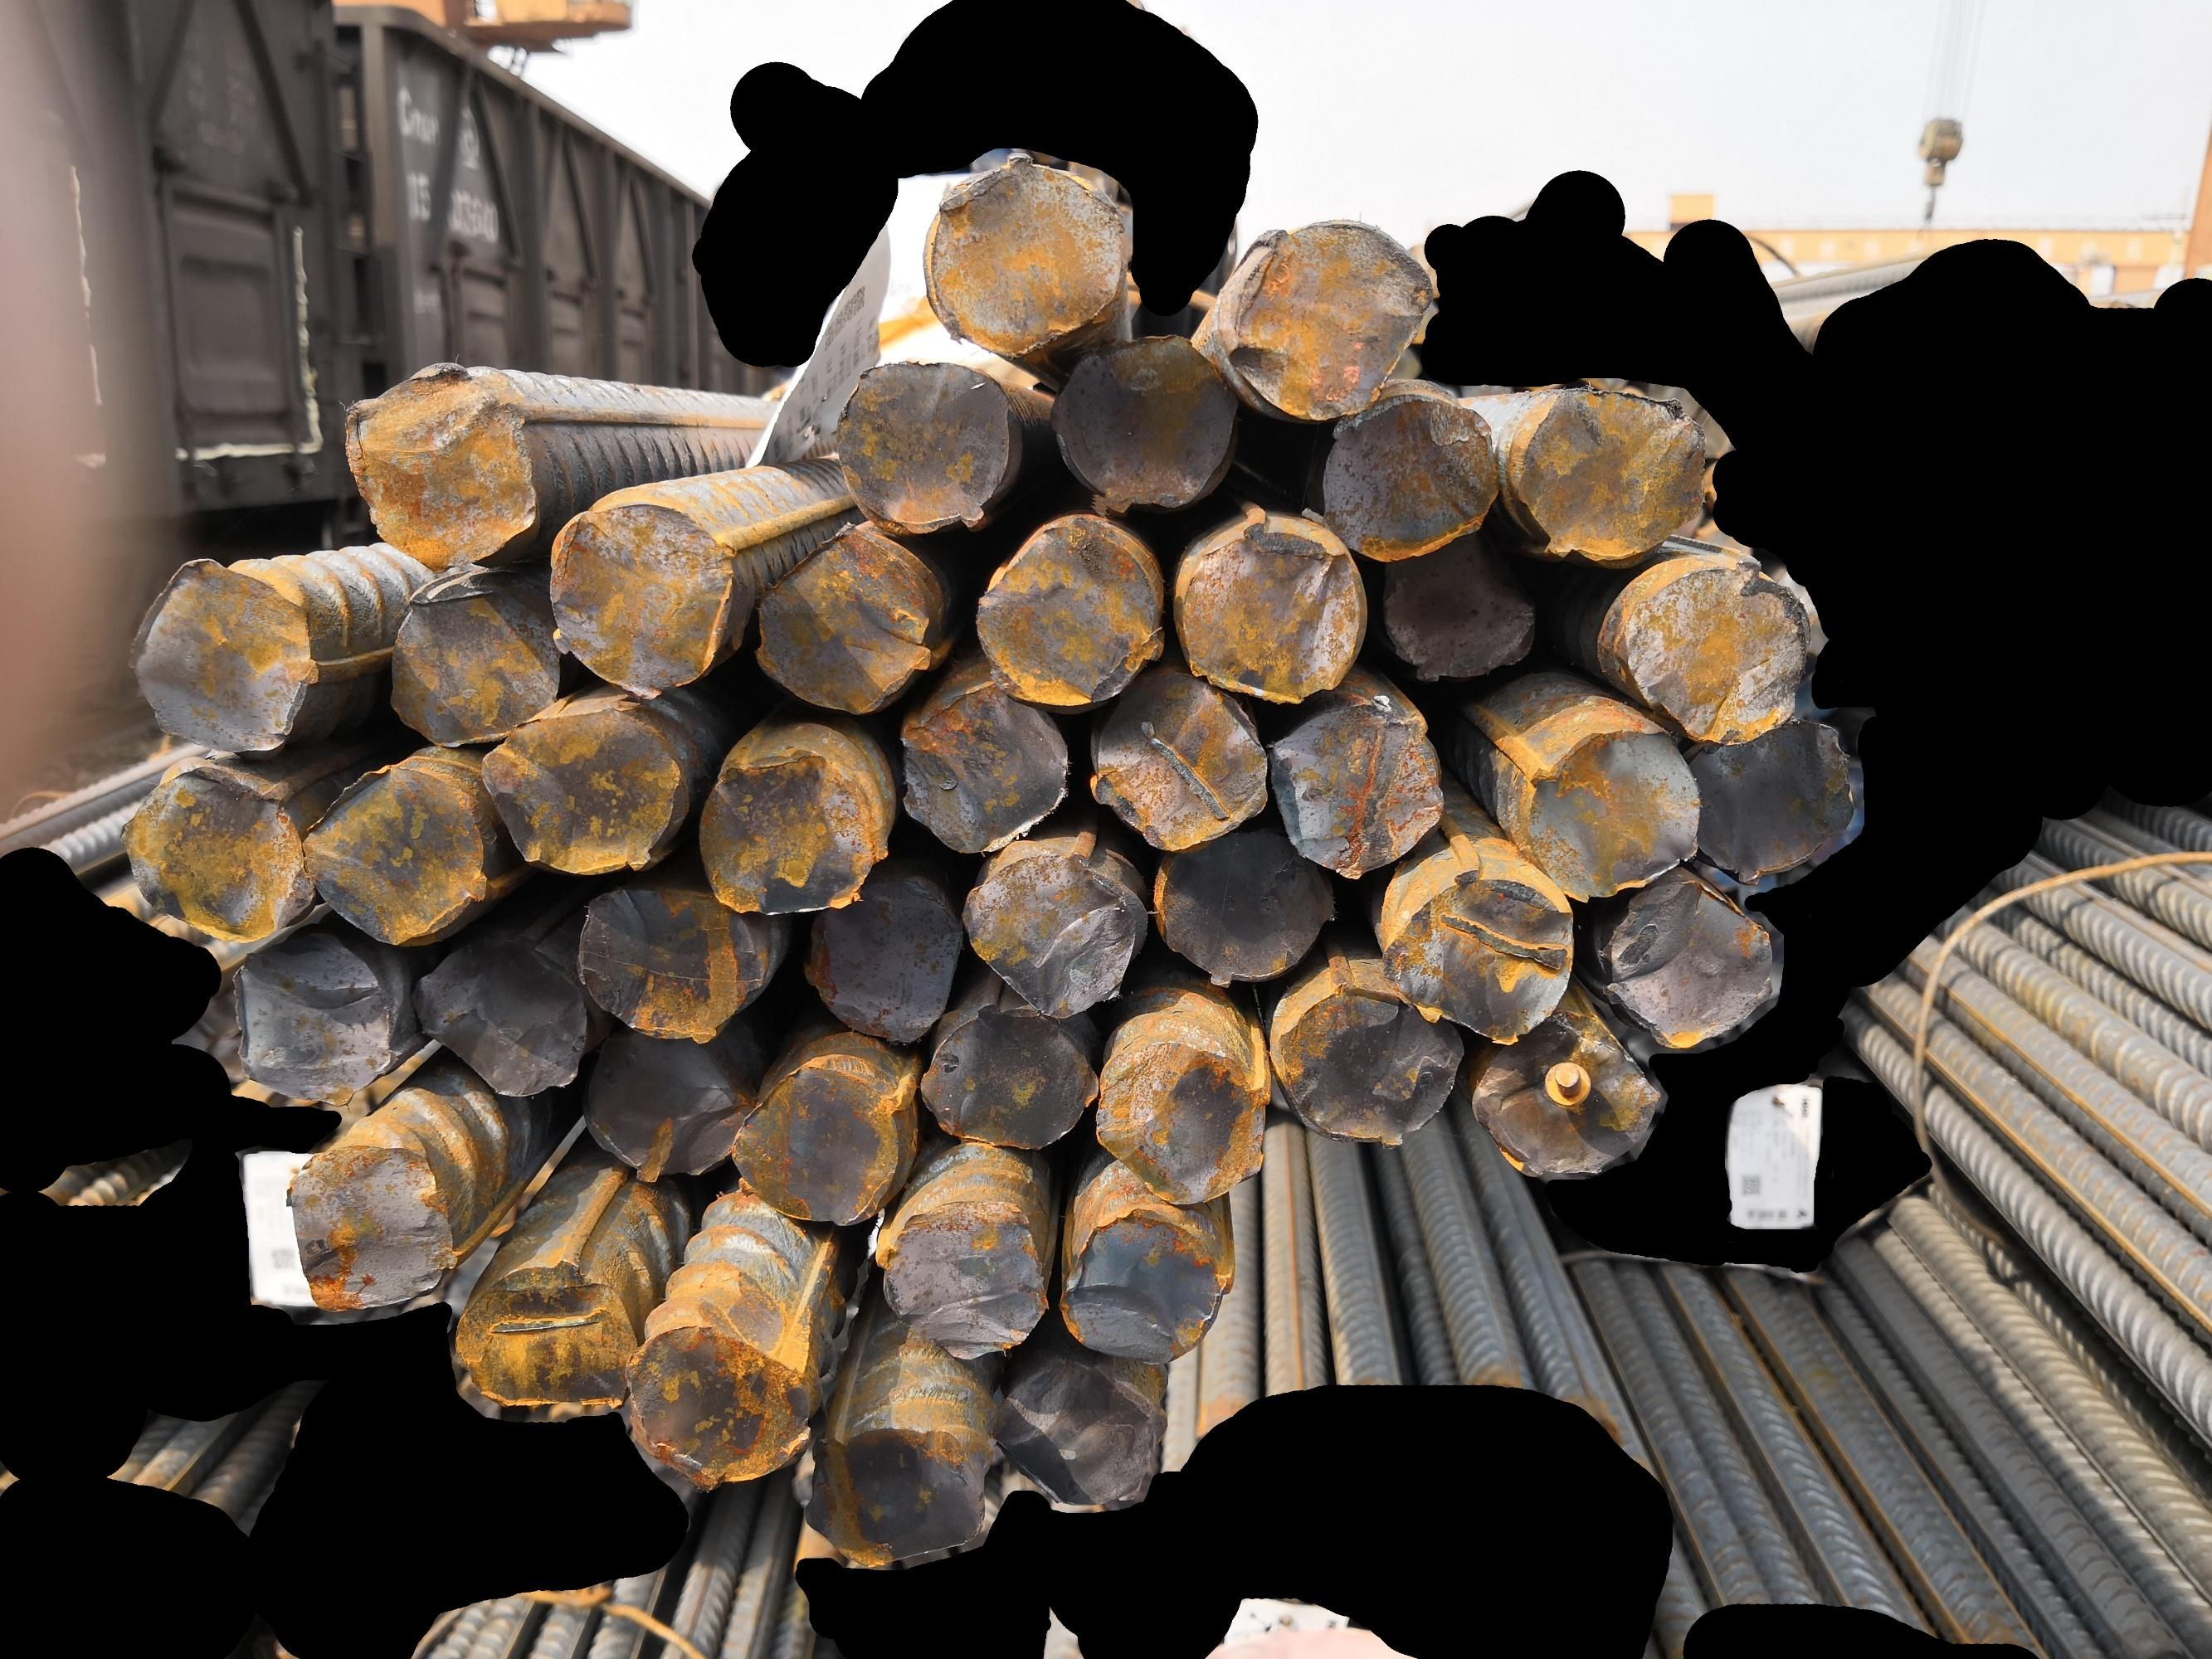bar: (335, 352, 544, 568), (1217, 220, 1435, 422), (919, 153, 1131, 354), (124, 551, 324, 760), (1170, 502, 1368, 709), (544, 493, 737, 704), (1503, 382, 1712, 565), (976, 507, 1164, 709), (1618, 549, 1811, 744), (746, 525, 936, 723), (1049, 328, 1245, 518), (117, 756, 319, 939), (1381, 861, 1574, 1049), (302, 756, 492, 946), (483, 702, 685, 880), (1084, 659, 1267, 854), (1265, 694, 1452, 884), (282, 1122, 464, 1316), (622, 1310, 819, 1488), (1269, 978, 1468, 1154), (830, 354, 1018, 537), (570, 885, 784, 1044), (692, 744, 889, 917), (1318, 382, 1503, 565), (1518, 718, 1700, 901), (729, 1054, 915, 1232), (894, 676, 1077, 856), (408, 929, 594, 1103), (1468, 1012, 1661, 1180), (1591, 878, 1776, 1053), (380, 573, 567, 746), (959, 845, 1145, 1018), (453, 1255, 641, 1419), (1089, 1037, 1271, 1202), (1147, 829, 1340, 985), (804, 870, 966, 1051), (870, 1197, 1044, 1364), (1684, 718, 1858, 885), (1055, 1206, 1236, 1364), (915, 1002, 1098, 1155), (990, 1351, 1164, 1511), (228, 936, 401, 1094), (807, 1419, 1002, 1558), (575, 1028, 748, 1178), (1377, 528, 1539, 687)
